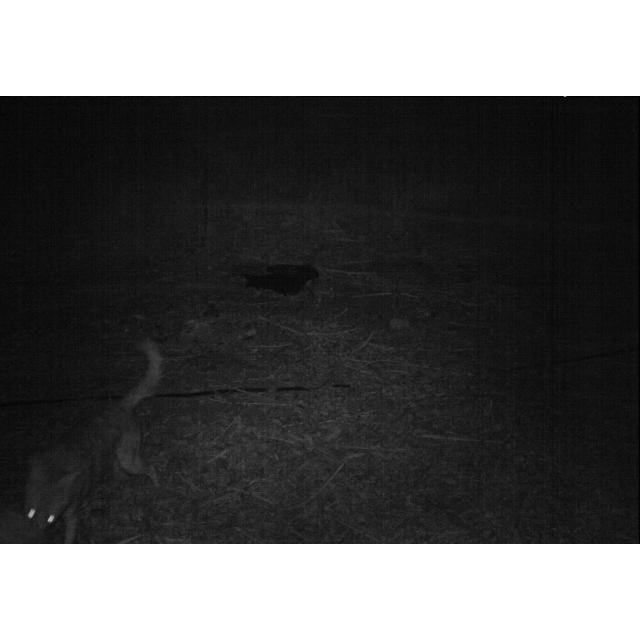animals: (19, 334, 165, 544)
